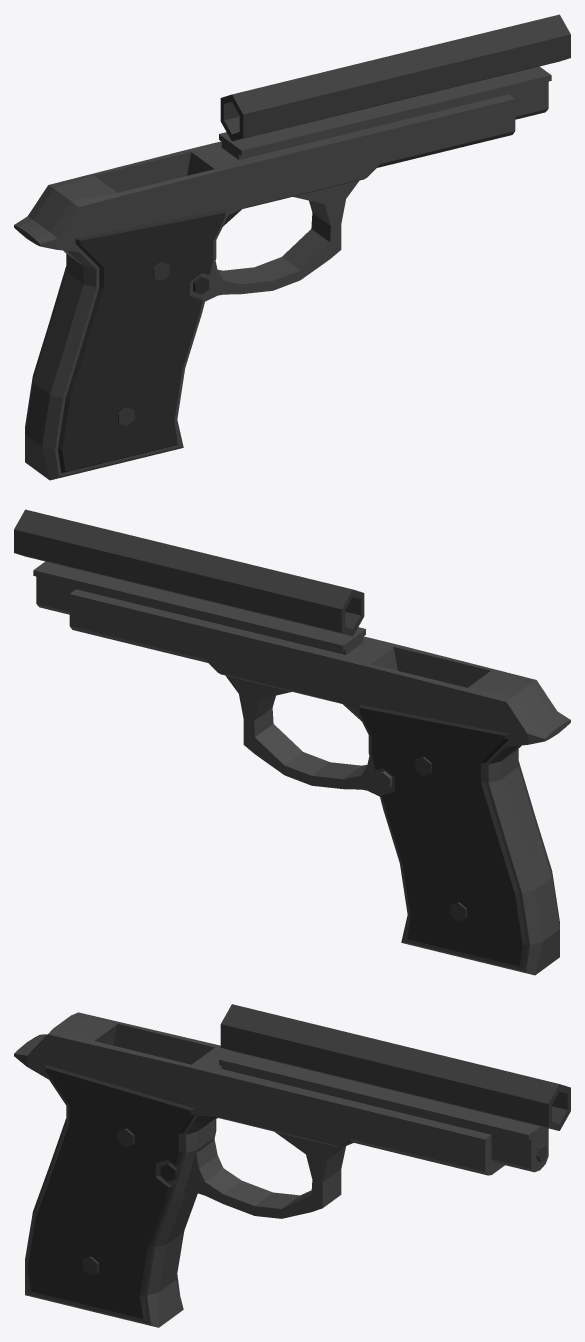
The model's file is Pistol1_02.fbx.
3 renders of one model, top to bottom at view 1: azimuth 30°, elevation 25°; view 2: azimuth 150°, elevation 25°; view 3: azimuth 330°, elevation 25°, orthographic.
Parts seen in each view (by area): view 1: Pistol1_02; view 2: Pistol1_02; view 3: Pistol1_02.
Boxes of the visible parts, x1=… form: Pistol1_02: x1=14, y1=14, x2=570, y2=480; Pistol1_02: x1=14, y1=509, x2=570, y2=975; Pistol1_02: x1=14, y1=1004, x2=570, y2=1327.
Size of the model in its own units: 0.259 by 0.1531 by 0.031.
